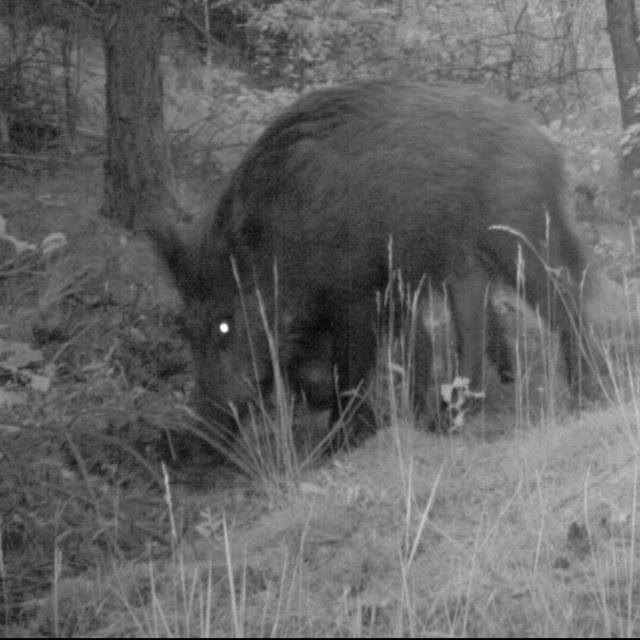pig: (169, 91, 599, 455)
